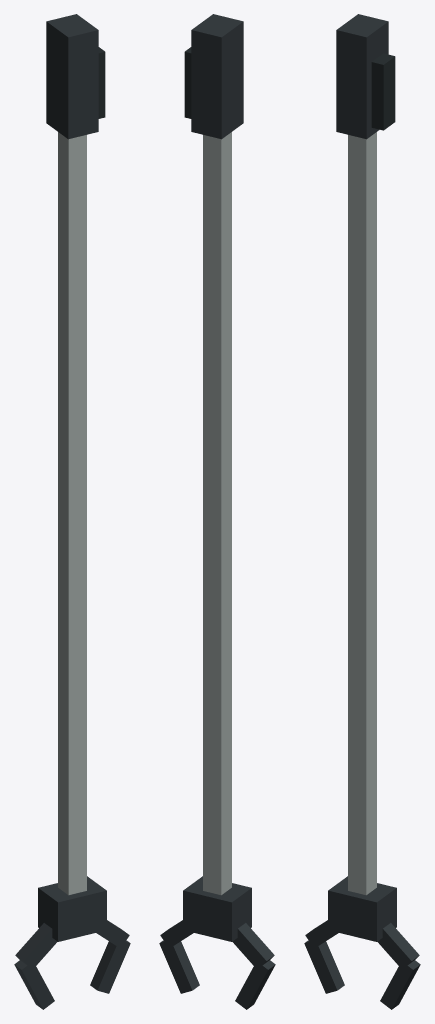
File: lwf_steward_litter_picker_v1.glb
3 renders of one model, left to right at view 1: azimuth 30°, elevation 25°; view 2: azimuth 150°, elevation 25°; view 3: azimuth 330°, elevation 25°, orthographic.
Visible parts, largest first — view 1: PickerMesh; view 2: PickerMesh; view 3: PickerMesh.
Part boxes in pixels (x1,y1,x2,y2): PickerMesh: (14,14,130,1009); PickerMesh: (159,14,275,1009); PickerMesh: (304,14,420,1009).
Bounding box in the file's own units: 0.1007 × 0.8597 × 0.035.
1 material, 1 textured.
